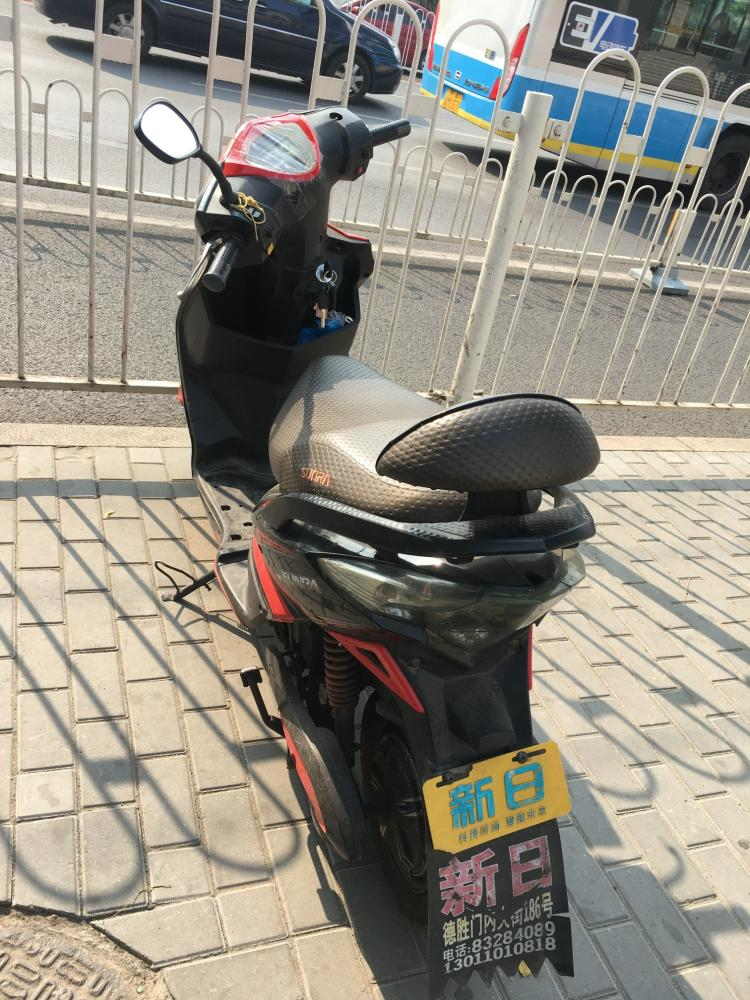电动车: (123, 71, 610, 992)
